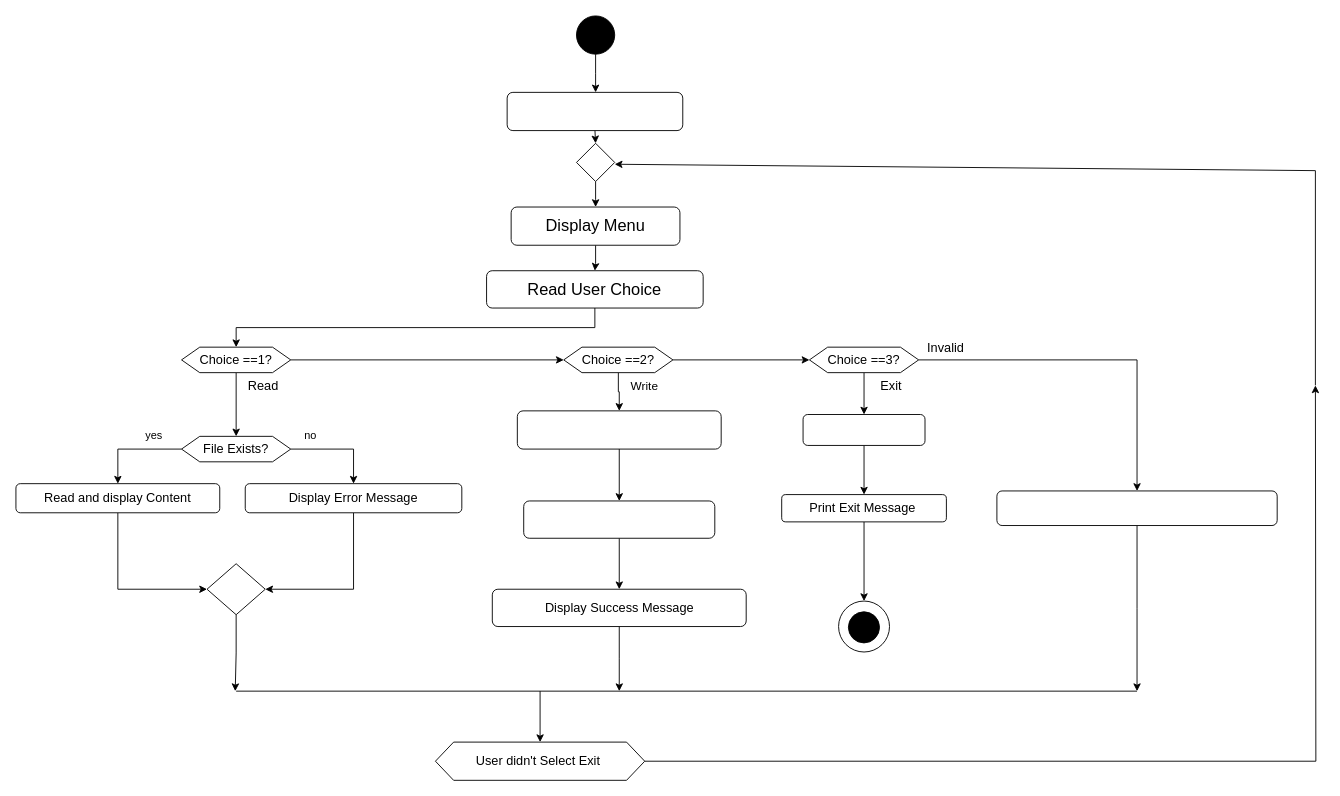
Image size: 1340x796. Some labels were removed from this diagram. The shapes that lost their labels are listed below. From the top down, each one's centre as x and y in pixels, then its label:
point 594,111: Initialize Scanner
point 618,429: Prompt for keyword input
point 863,429: Close Scanner
point 619,519: Append Data to file
point 1136,508: Display invaild Option Error
